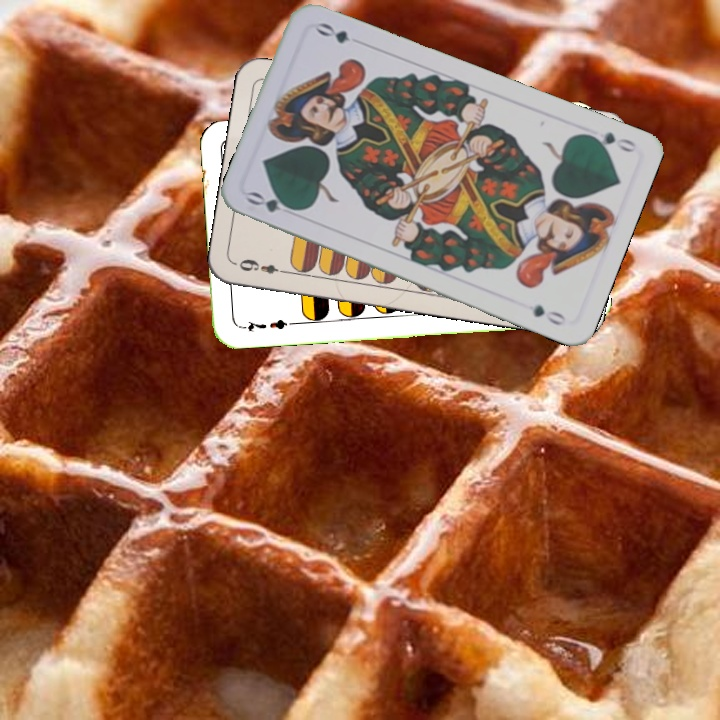E7: (236, 315, 296, 334)
E9: (235, 255, 291, 277)
GO: (243, 187, 302, 217), (579, 127, 639, 155)
